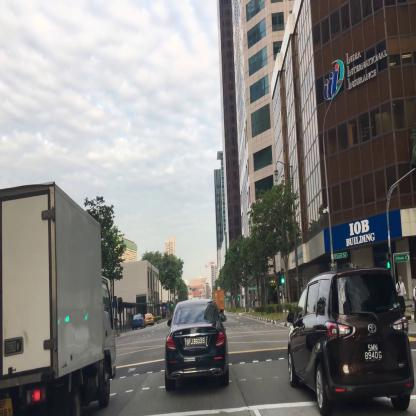green_traffic_light: (280, 269, 284, 283)
